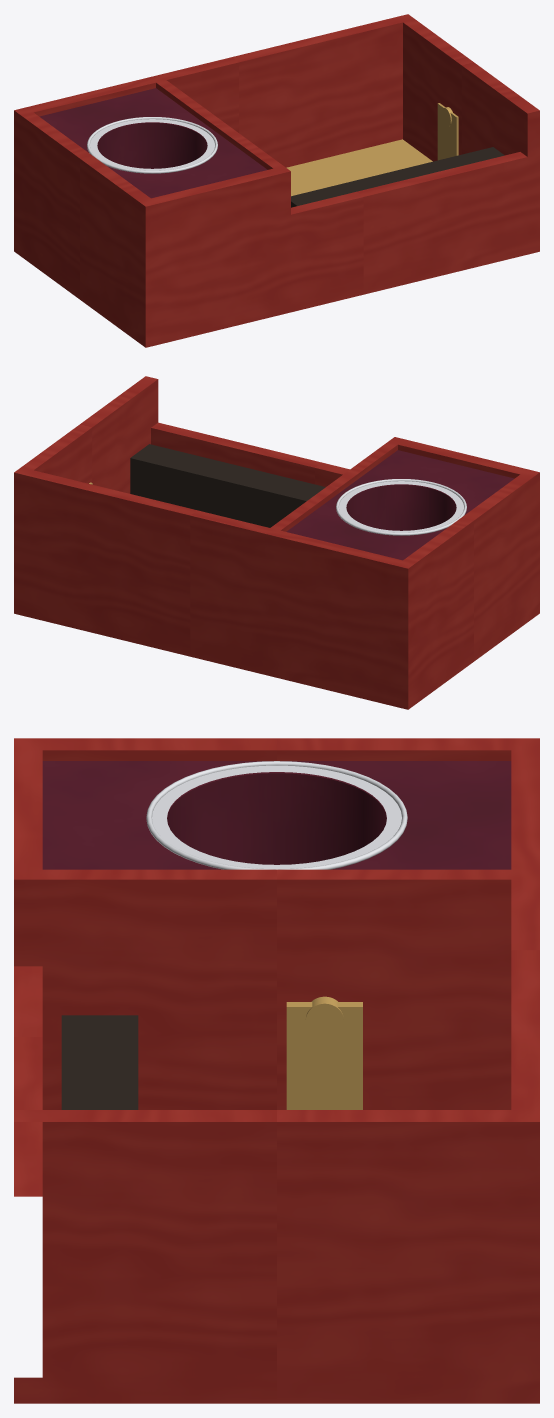
File: box_red.glb
3 renders of one model, top to bottom at view 1: azimuth 30°, elevation 25°; view 2: azimuth 150°, elevation 25°; view 3: azimuth 270°, elevation 25°, orthographic. The views are drawn at different scales.
Visible parts, largest first — view 1: box_red; view 2: box_red; view 3: box_red.
Boxes of the visible parts, x1=… form: box_red: x1=14, y1=14, x2=539, y2=347; box_red: x1=14, y1=376, x2=539, y2=709; box_red: x1=14, y1=738, x2=539, y2=1403.
Bounding box in the file's own units: 0.38 × 0.13 × 0.22.
5 materials, 2 textured.
